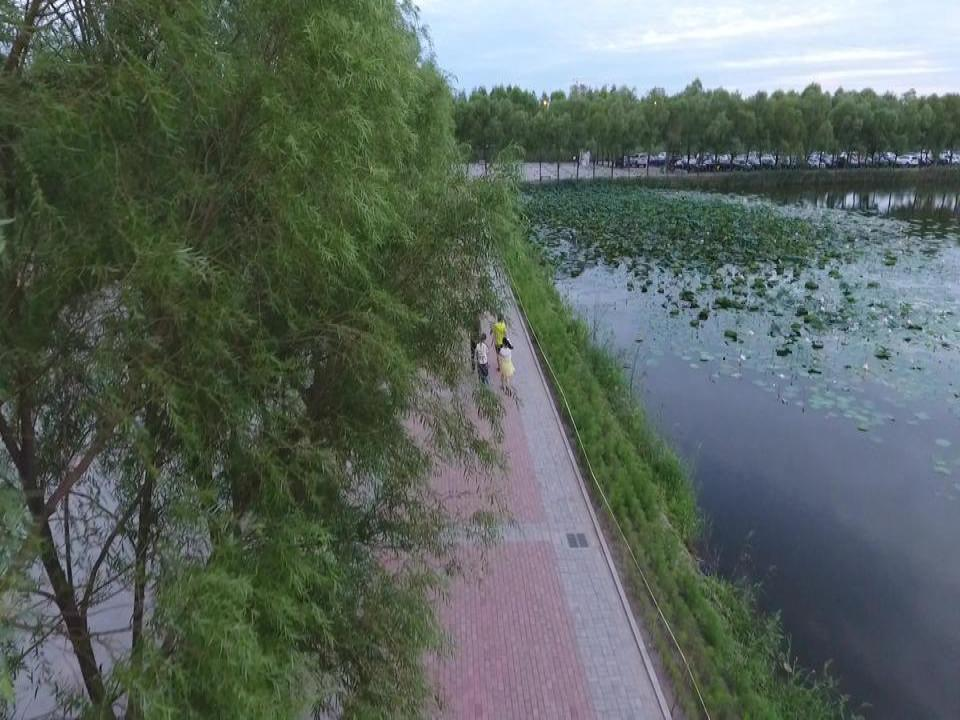car: (628, 153, 648, 167), (614, 155, 632, 168), (648, 155, 665, 165)
